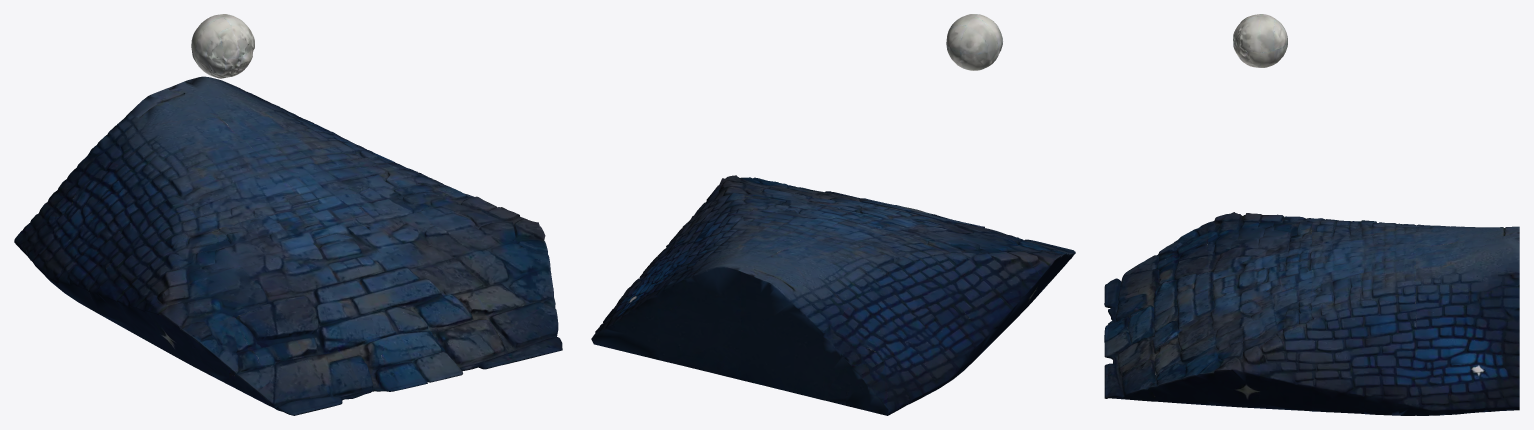
Rendered from pathway.glb.
3 views of the same model, side by side, from view 1: azimuth 30°, elevation 25°; view 2: azimuth 150°, elevation 25°; view 3: azimuth 270°, elevation 25° (orthographic). The views are drawn at different scales.
Parts seen in each view (by area): view 1: geometry_0; view 2: geometry_0; view 3: geometry_0.
Boxes of the visible parts, x1,y1,x2,y2 form: geometry_0: [14, 14, 562, 415]; geometry_0: [591, 14, 1075, 415]; geometry_0: [1104, 14, 1519, 415].
Bounding box in the file's own units: 0.8927 × 0.7449 × 0.9998.
Materials: 1 (1 with a texture image).
